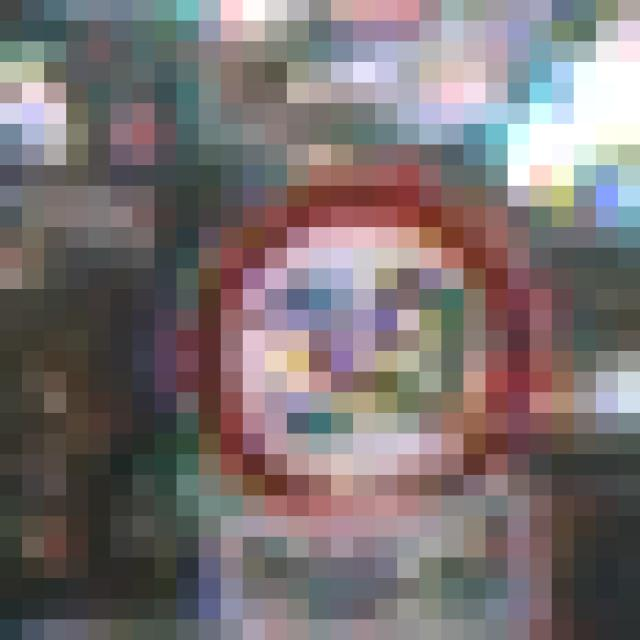Speed Limit -30-: (121, 113, 518, 506)
